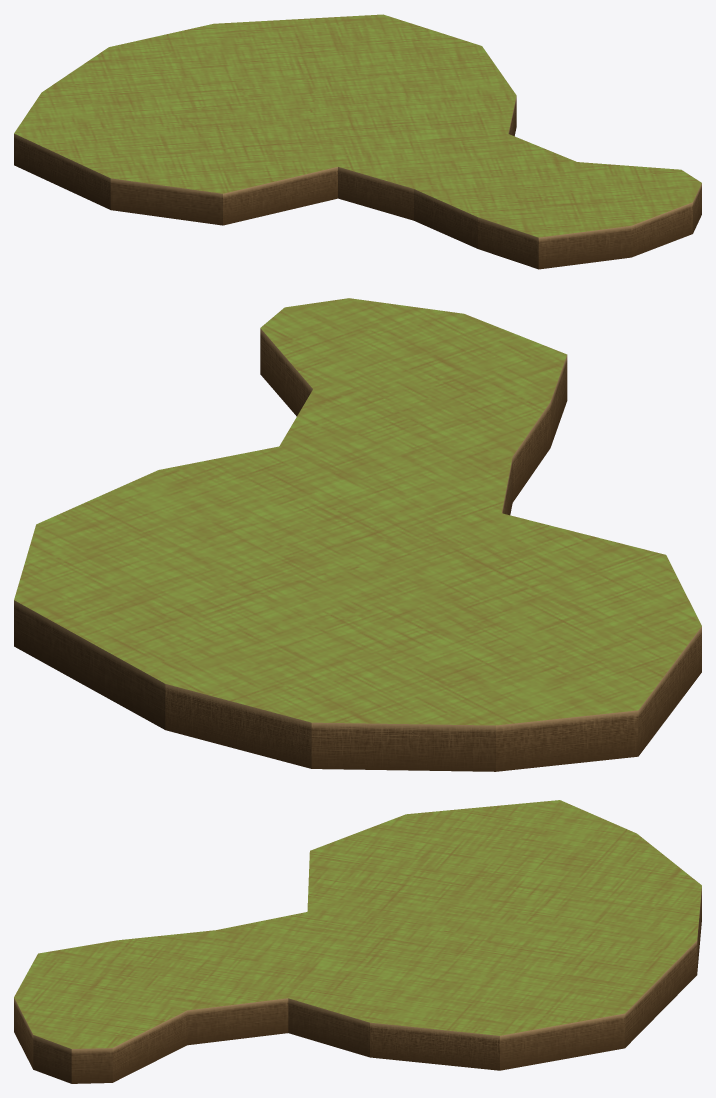
Rendered from Terrain04_E.FBX.
The picture shows the model from 3 angles, top to bottom: view 1: azimuth 30°, elevation 25°; view 2: azimuth 150°, elevation 25°; view 3: azimuth 270°, elevation 25°; orthographic projection. The views are drawn at different scales.
Parts seen in each view (by area): view 1: Terrain04_E; view 2: Terrain04_E; view 3: Terrain04_E.
Boxes of the visible parts, left/top/right/bottom form: Terrain04_E: left=14, top=14, right=701, bottom=269; Terrain04_E: left=14, top=298, right=701, bottom=771; Terrain04_E: left=14, top=800, right=701, bottom=1083.
Size of the model in its own units: 765 by 49.97 by 893.
1 material, 1 textured.
